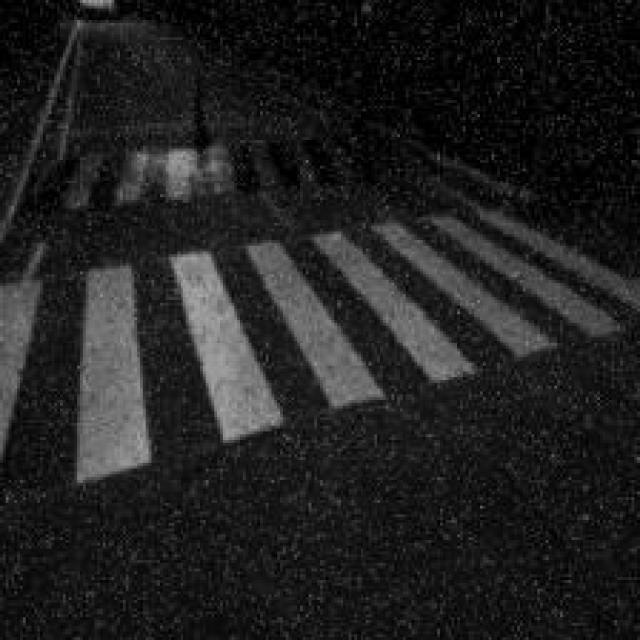crosswalk: (0, 205, 640, 520)
